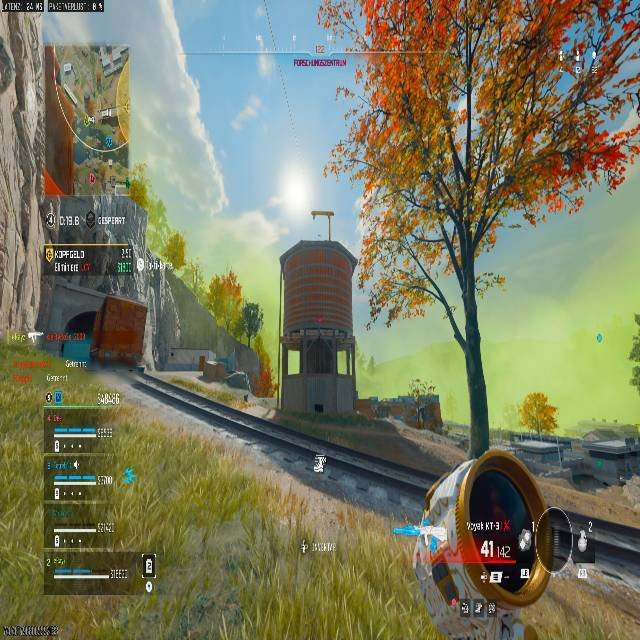player: (517, 391, 560, 435)
